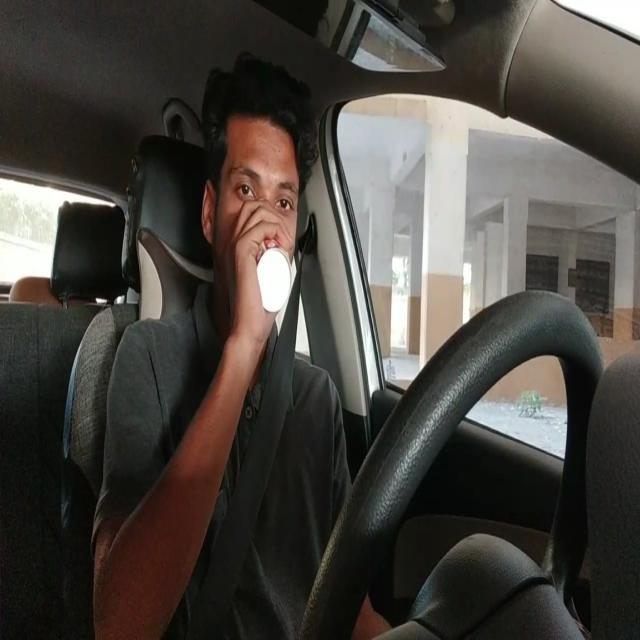Drinking: (200, 112, 299, 331)
